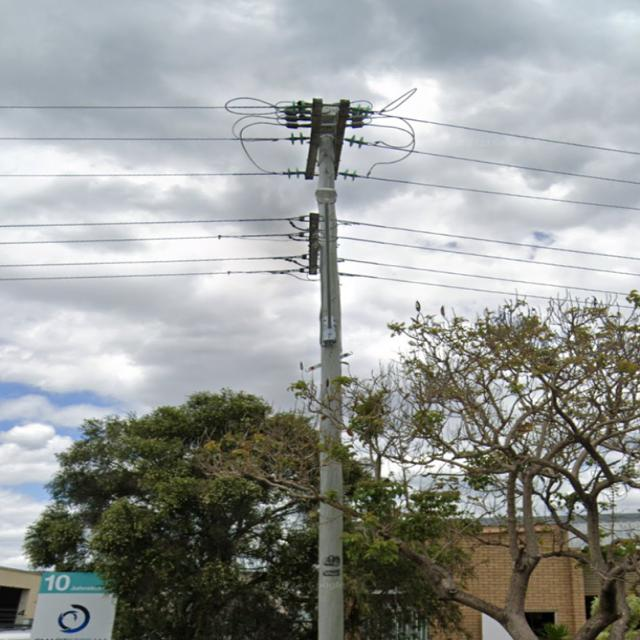HV-switch: (278, 100, 374, 134)
HV-transmission: (278, 102, 375, 182)
crossarm: (304, 98, 323, 180), (334, 98, 352, 180), (308, 212, 319, 274)
streetlight: (314, 187, 338, 330)
timber-pole: (316, 135, 346, 640)
